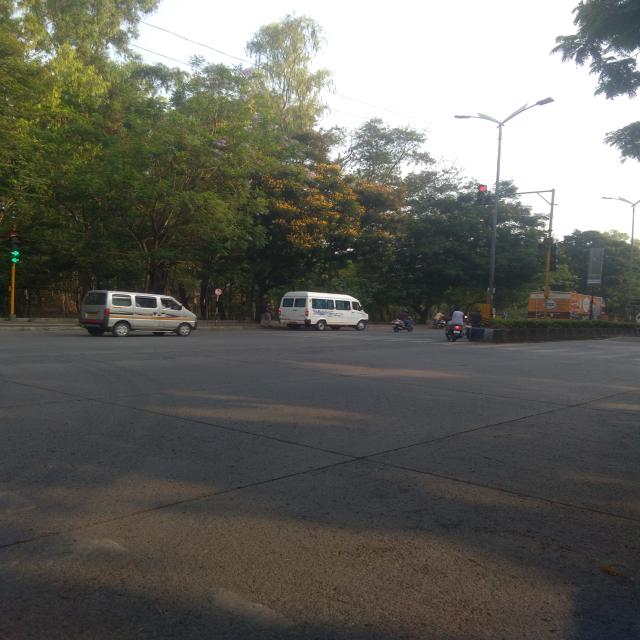Traveller: (78, 290, 198, 336), (278, 291, 370, 330)
